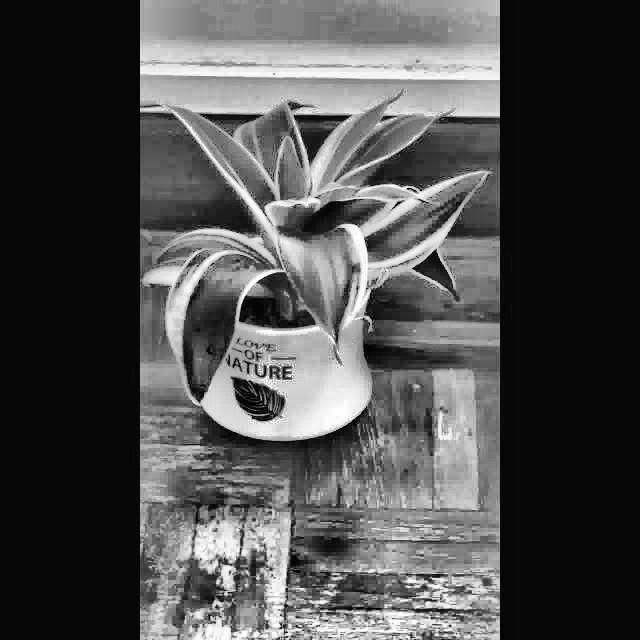plants: (140, 89, 494, 452)
